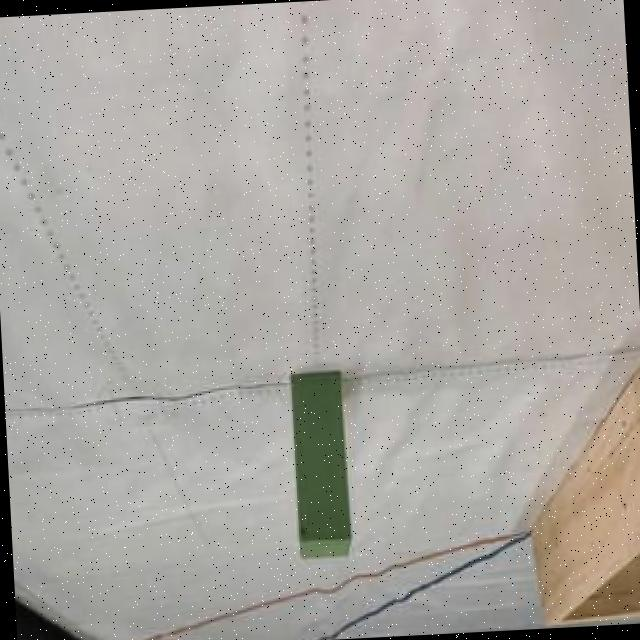greenbox: (286, 369, 354, 560)
